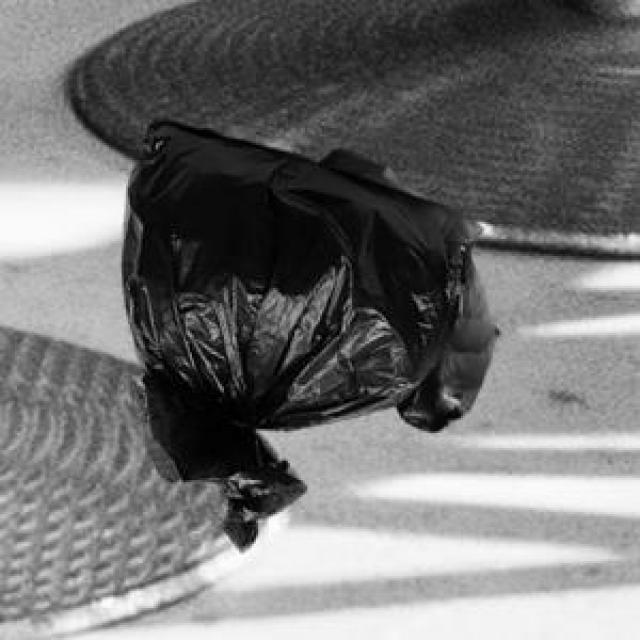miscellaneous trash: (117, 115, 478, 548), (314, 145, 495, 427)
